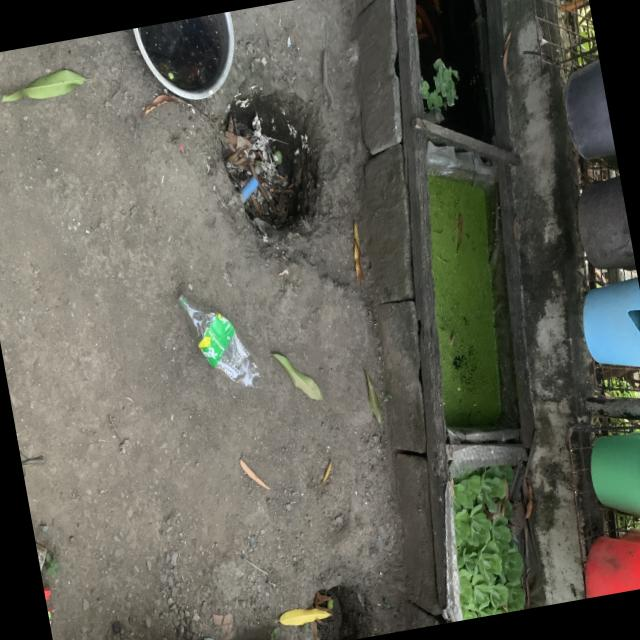Bottle: (177, 296, 258, 386)
